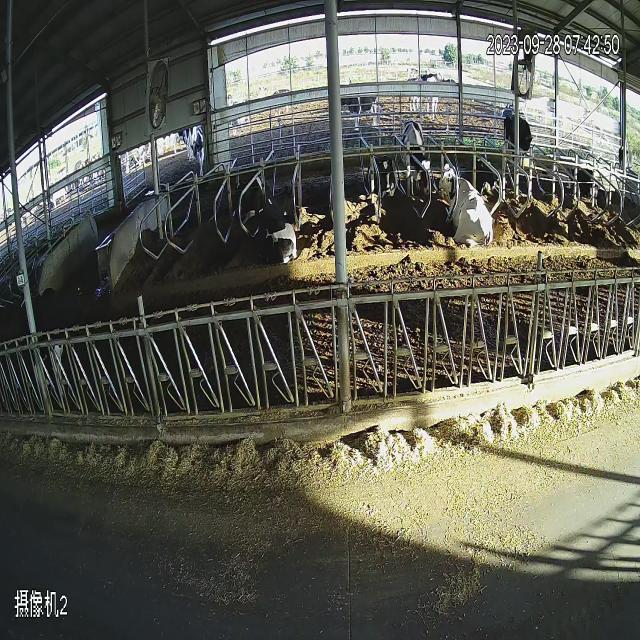lying down: (240, 104, 400, 270), (438, 143, 503, 267)
standing: (322, 76, 460, 136)
